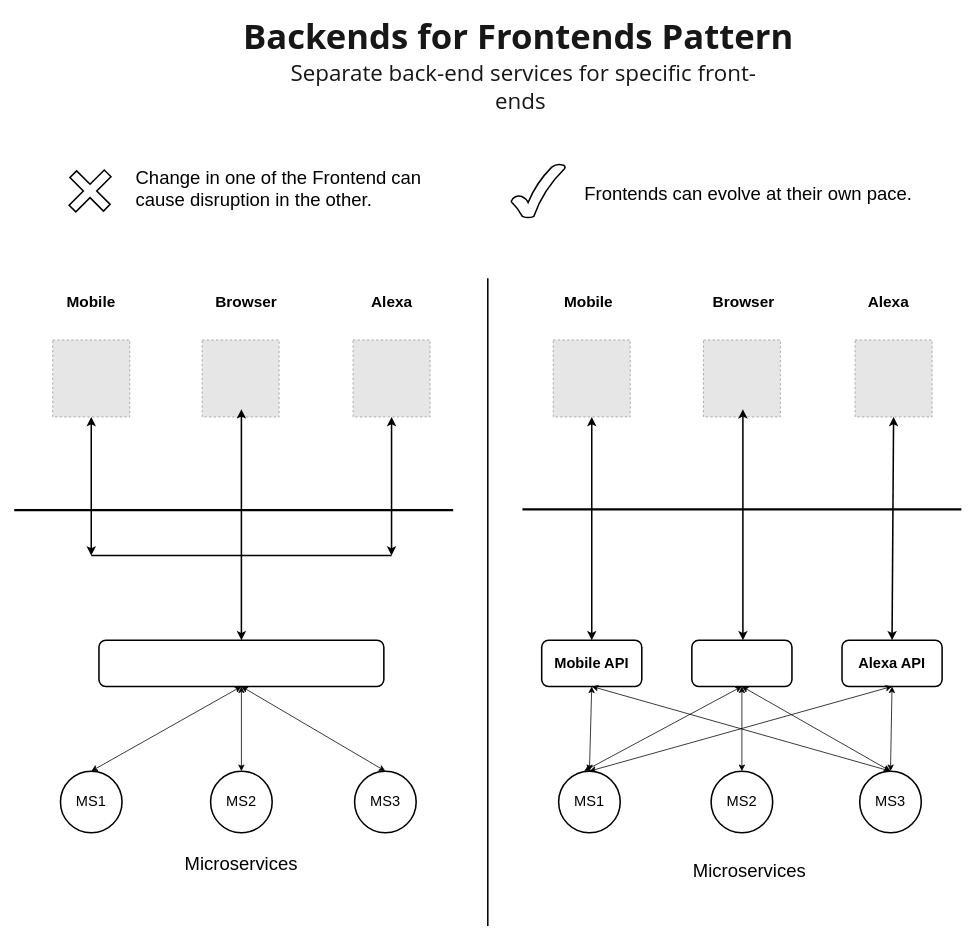
Image size: 976x941. Some labels were removed from this diagram. Grey dashed boxes stand in for pictures. Each missing label, with the centre of its shape:
Application API: (241,663)
Browser API: (741,663)
